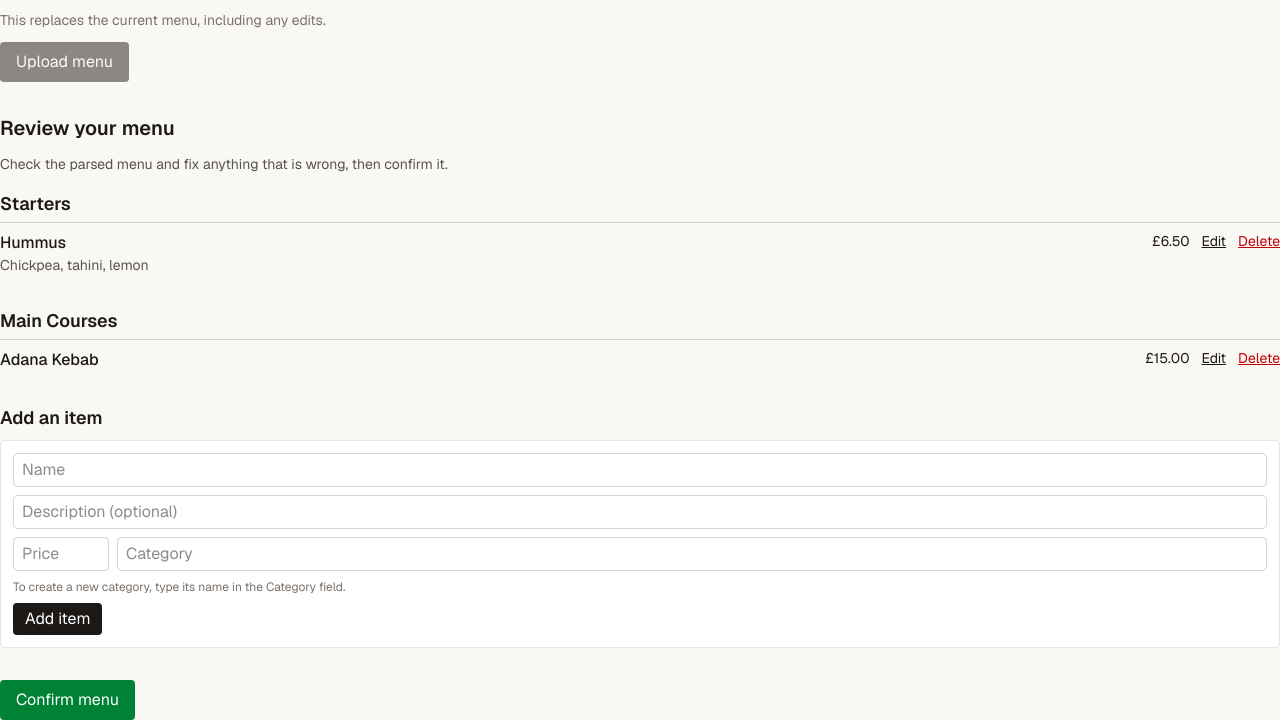
Test case: PartyLeaderView › confirms the menu and then shows the share link
This screenshot has width=1280, height=720.
(page scrolled)
What coordinates should you click on to do the following:
click the button "Confirm menu"
I would click on:
 (67, 700)
Its box is [0,680,135,719].
(page scrolled)
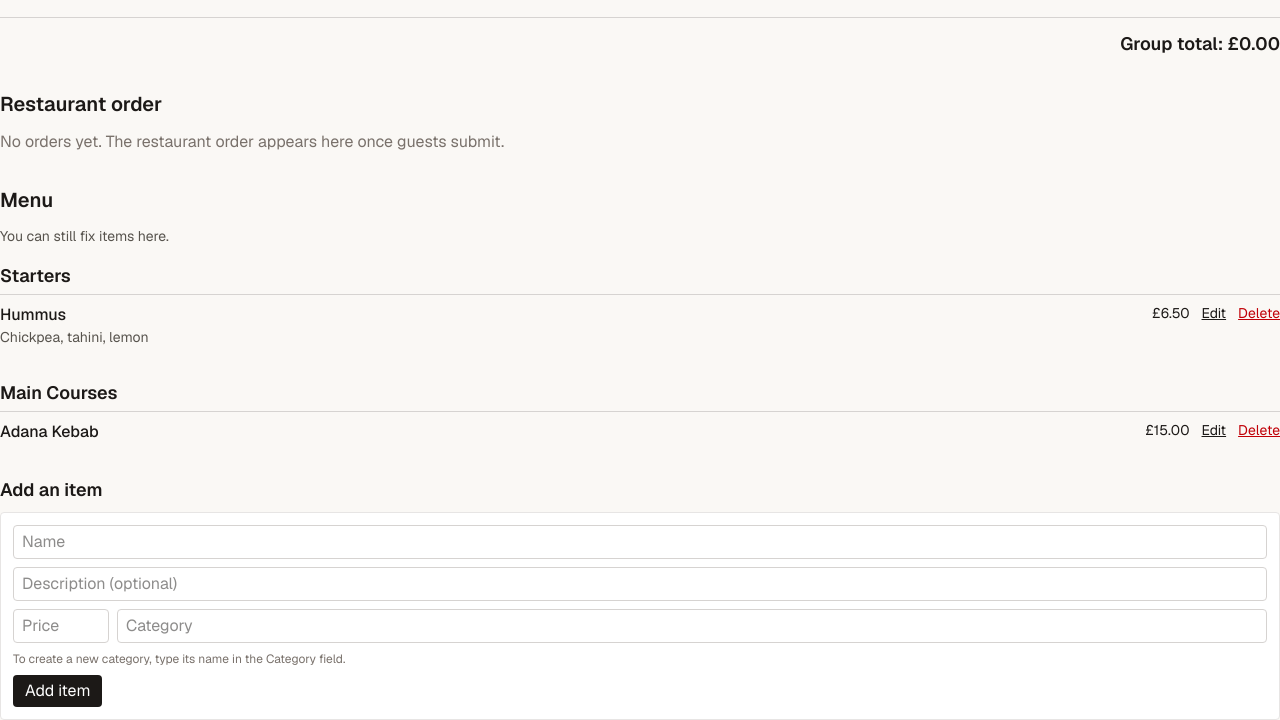
Now the heading "Restaurant order" is shown, box [0,91,162,117]
Now the button "Confirm menu" is gone
